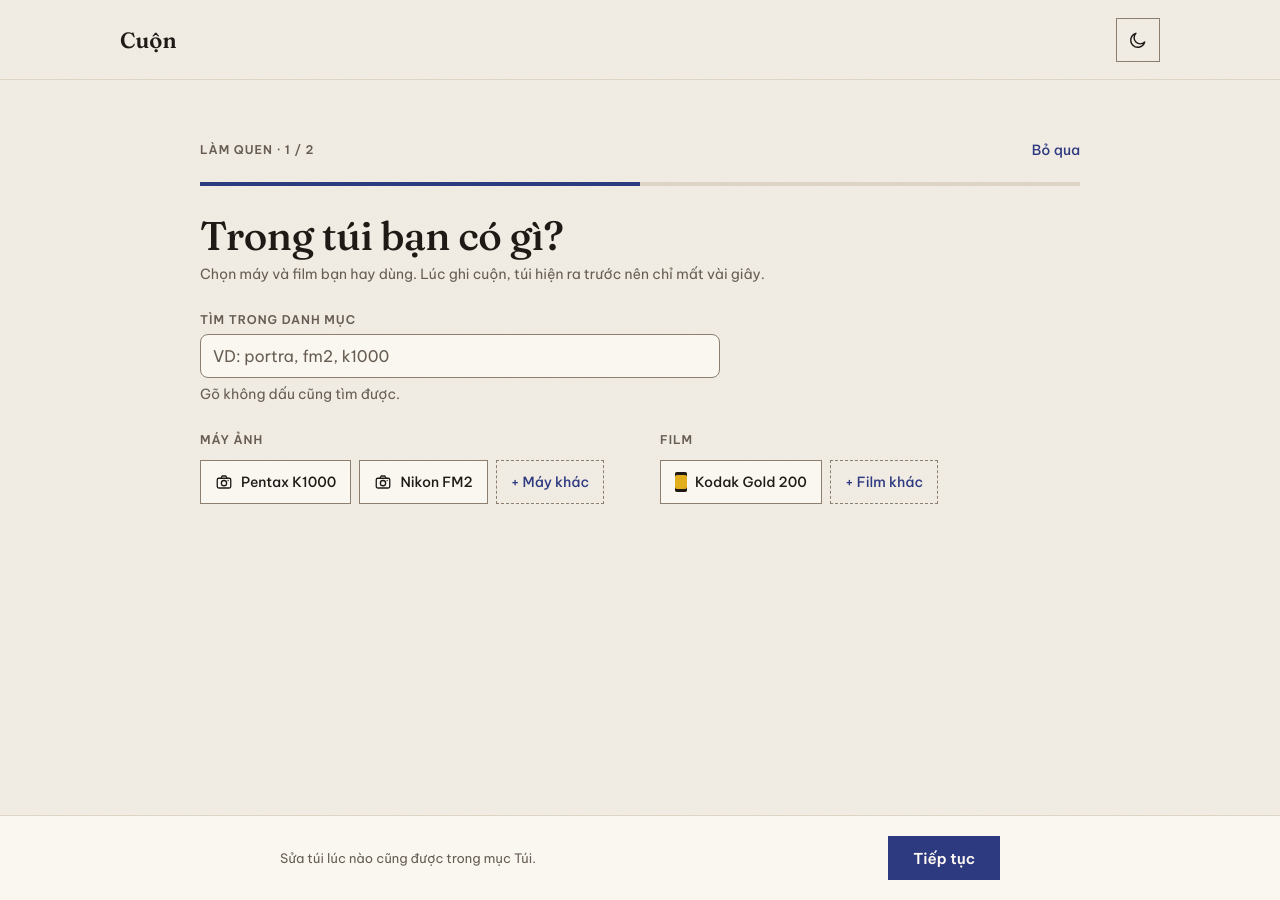
Test: OnboardBagContent › clearing the search drops the extra results
The width and height of the screenshot is (1280, 900).
Type "canon" into the search field labelled "Tìm trong danh mục" at (460,356), box [200,334,720,378]
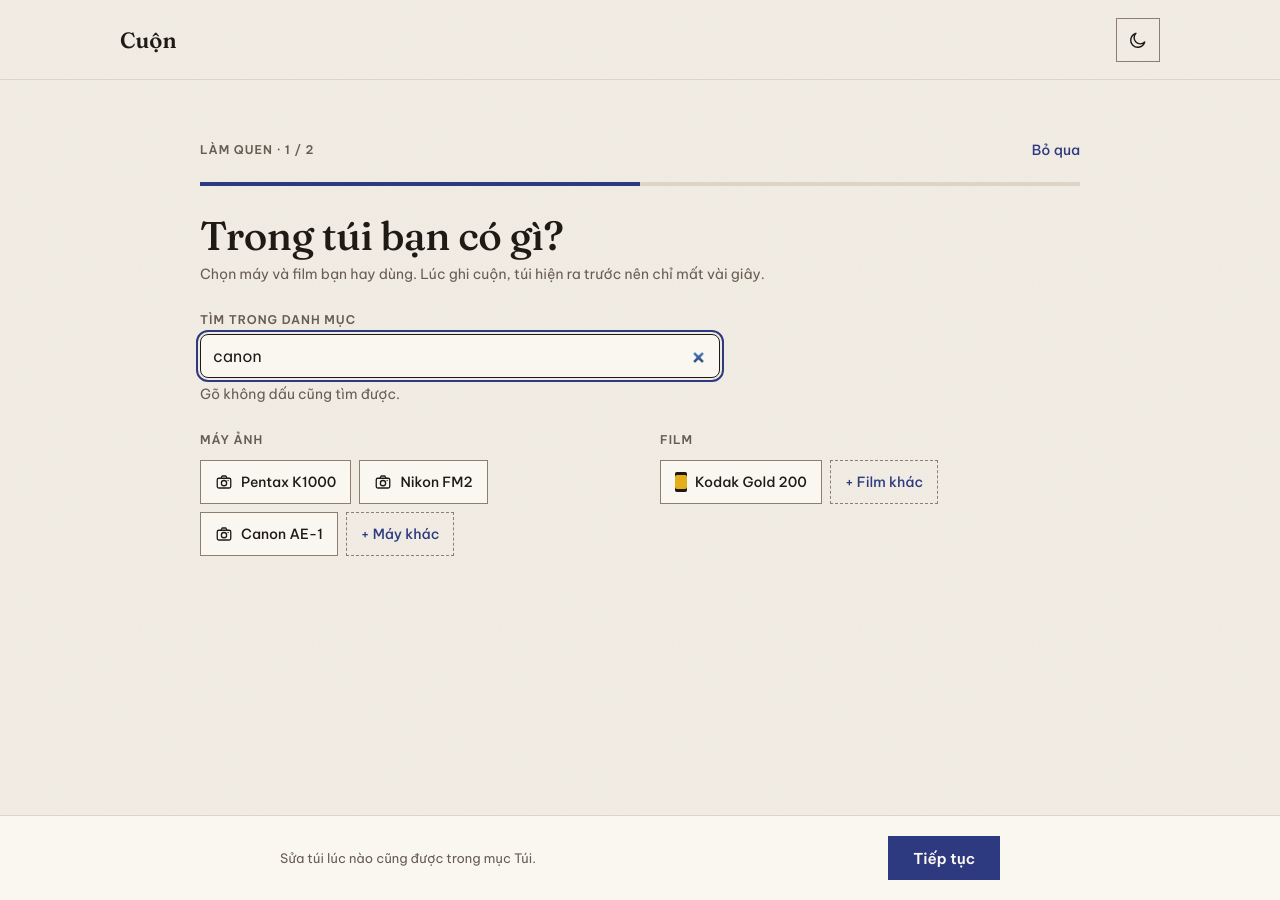
Check: the button "Canon AE-1" is shown, box [200,512,338,556]
Clear the search field labelled "Tìm trong danh mục" at (460,356), box [200,334,720,378]
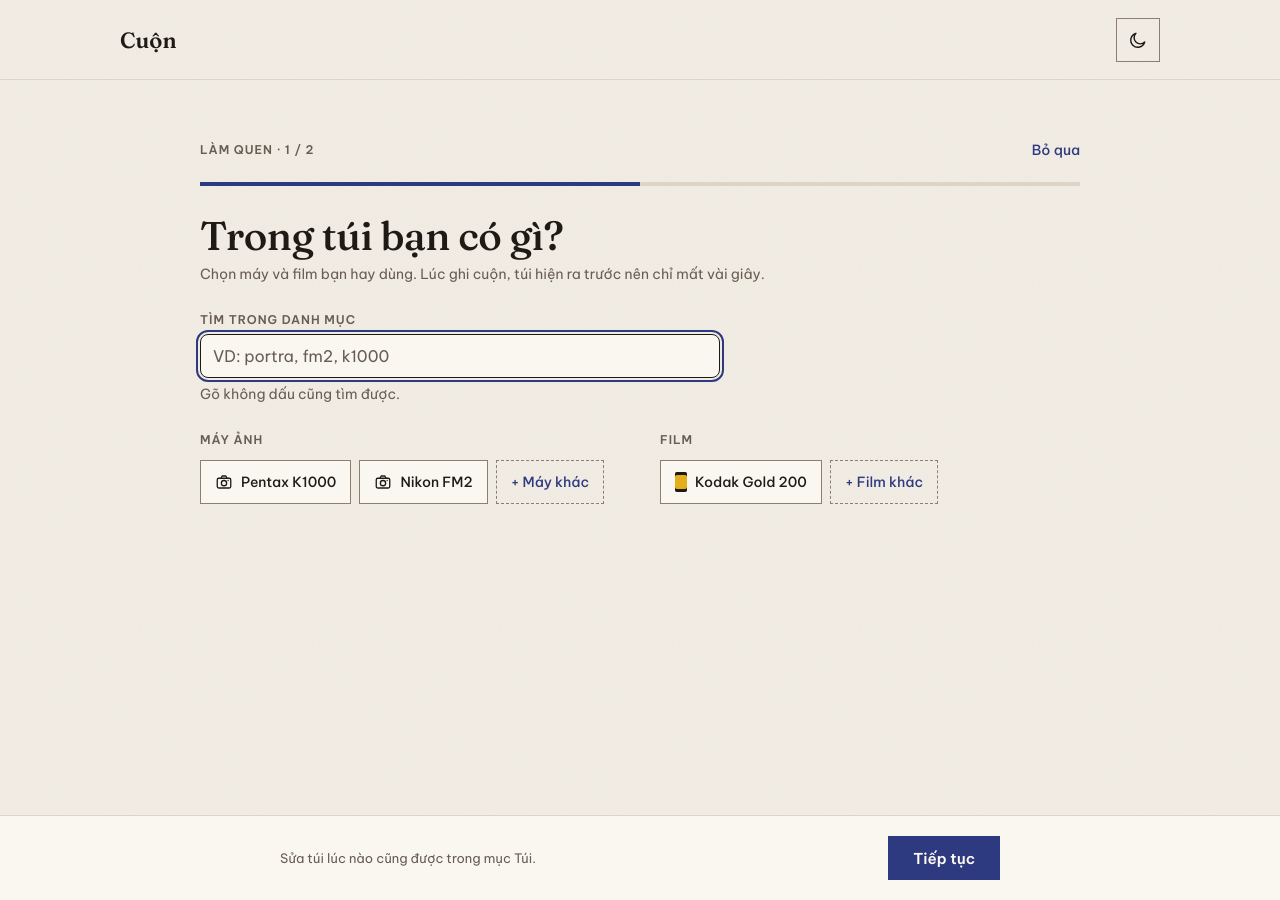
Check: the button "Canon AE-1" is gone
